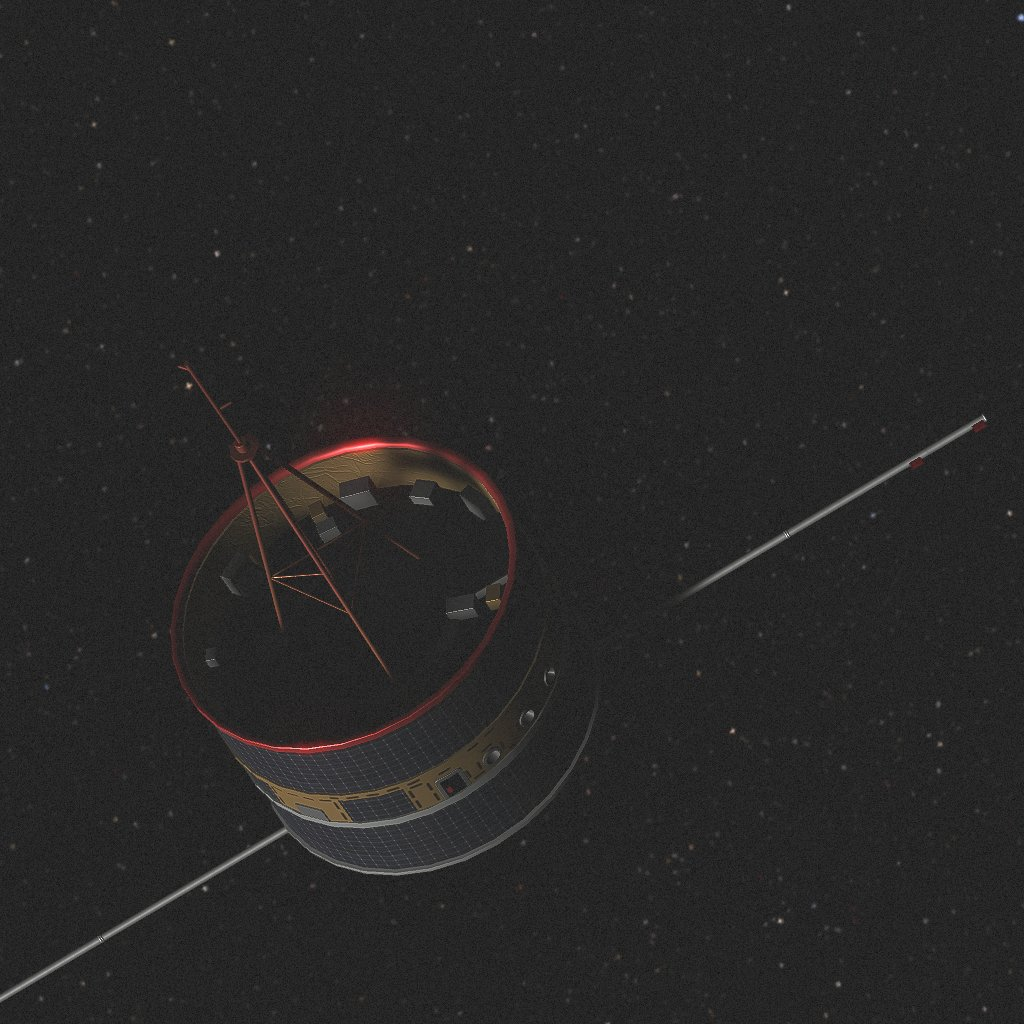double_star: (0, 361, 987, 1003)
